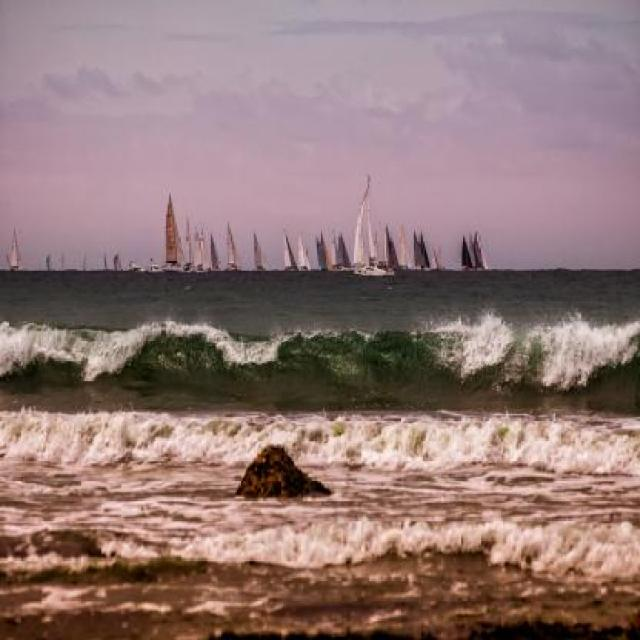ship: (352, 176, 394, 275), (160, 191, 186, 272), (460, 229, 491, 269), (192, 220, 210, 271), (315, 227, 334, 273), (224, 220, 242, 268), (412, 227, 432, 268), (7, 226, 24, 272), (335, 231, 354, 271), (296, 232, 313, 271), (253, 231, 269, 272), (281, 228, 296, 268), (209, 232, 223, 270)
